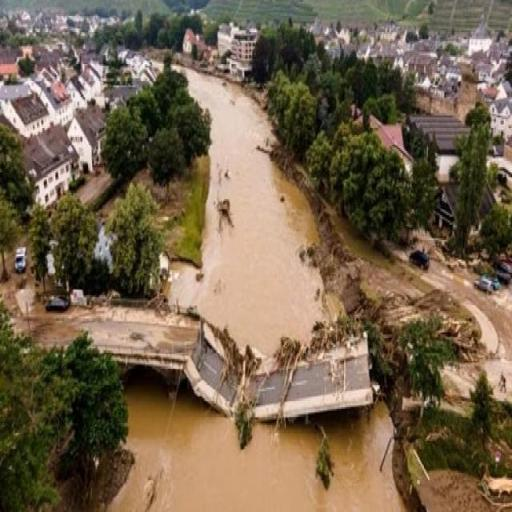flood: (170, 68, 329, 356), (108, 372, 405, 512)
house: (16, 125, 78, 214), (406, 110, 472, 158), (3, 80, 57, 135), (218, 22, 263, 86), (66, 110, 108, 178), (36, 70, 86, 120), (436, 182, 460, 230), (355, 33, 395, 59), (490, 96, 512, 142), (122, 54, 156, 80), (467, 23, 495, 54), (404, 52, 435, 73), (180, 28, 195, 56), (497, 78, 512, 97)
